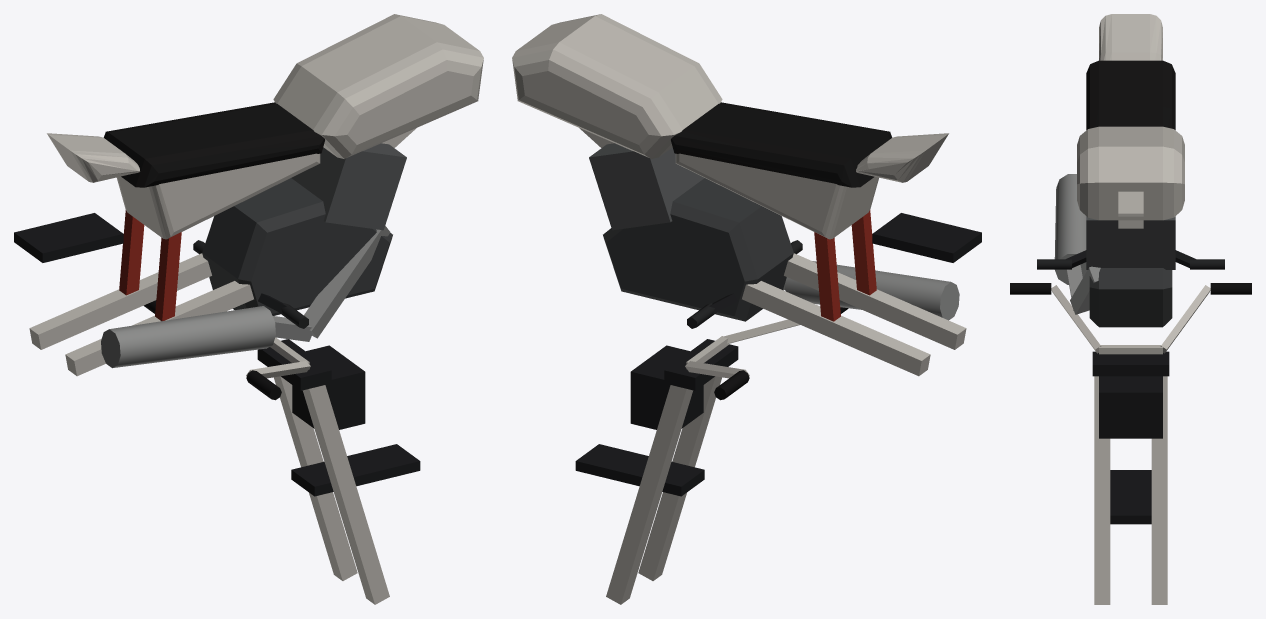
Rendered from 2024-Vehicles-motorcycle.glb.
3 views of the same model, side by side, from view 1: azimuth 30°, elevation 25°; view 2: azimuth 150°, elevation 25°; view 3: azimuth 270°, elevation 25° (orthographic). The views are drawn at different scales.
Parts seen in each view (by area): view 1: Vehicles/motorcycle; view 2: Vehicles/motorcycle; view 3: Vehicles/motorcycle.
Part boxes in pixels (x1,y1,x2,y2): Vehicles/motorcycle: (14, 14, 483, 604); Vehicles/motorcycle: (512, 14, 981, 604); Vehicles/motorcycle: (1010, 14, 1251, 604).
Bounding box in the file's own units: 1.44 × 1.68 × 0.76.
